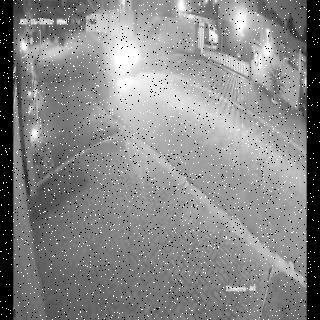car: (107, 34, 140, 75), (204, 22, 220, 46)
